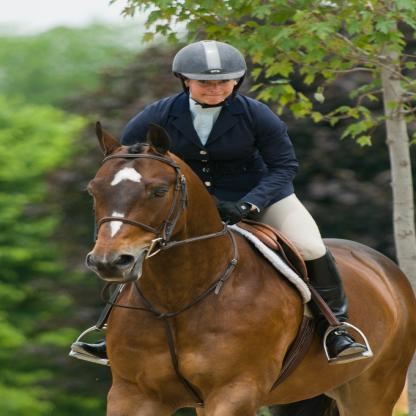Helmet: (174, 42, 246, 98)
